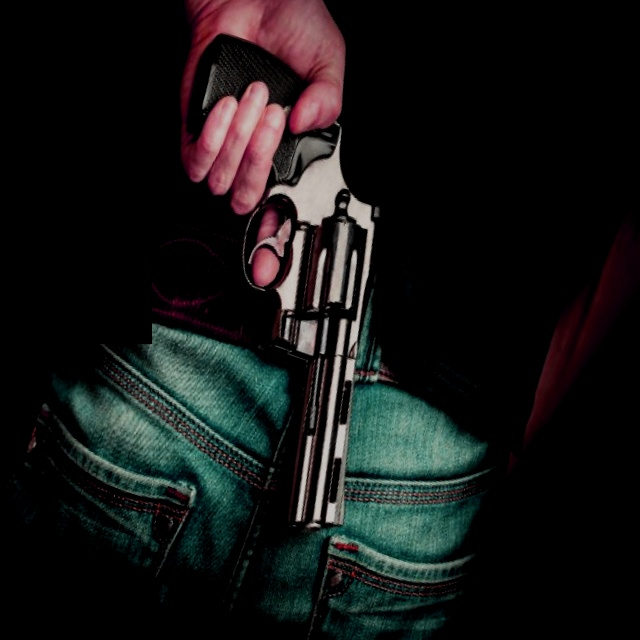gun: (58, 15, 487, 546)
